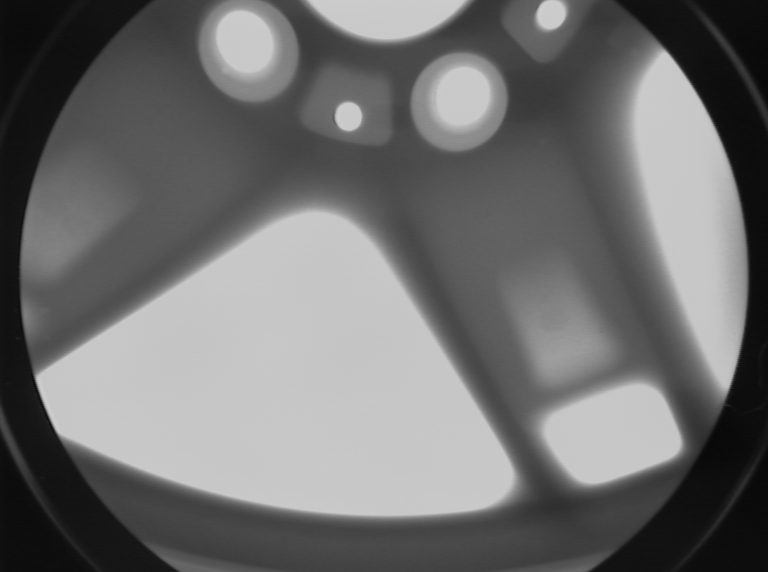defect: (36, 329, 57, 348)
